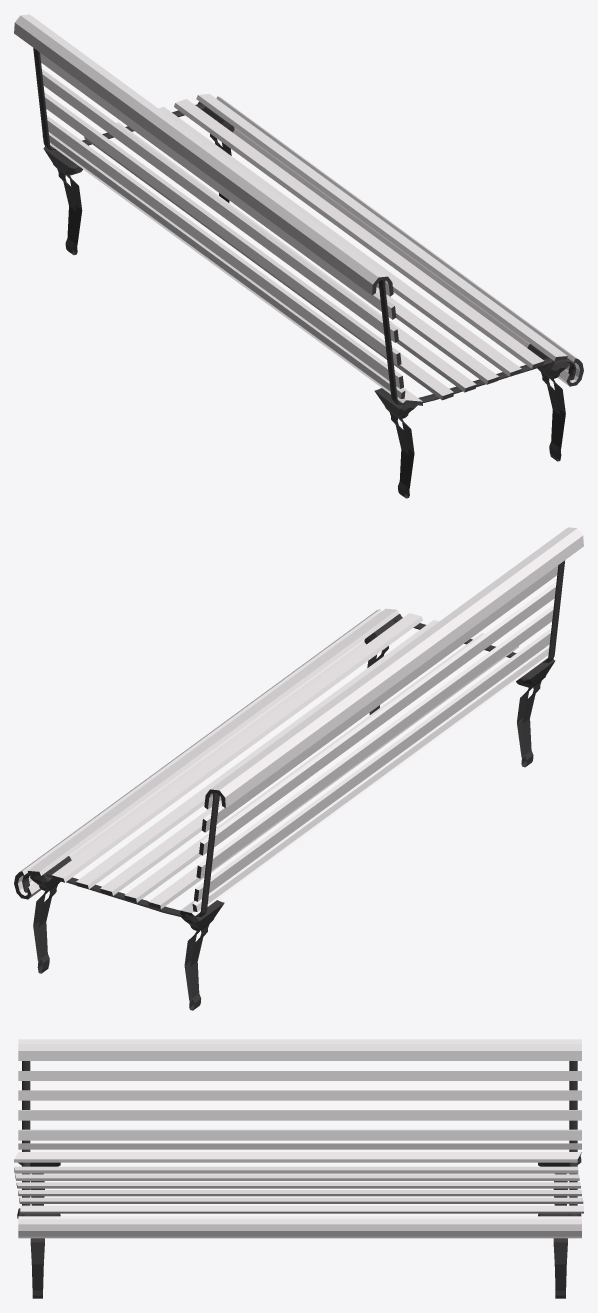
Rendered from BANCO.fbx.
The picture shows the model from 3 angles, top to bottom: view 1: azimuth 30°, elevation 25°; view 2: azimuth 150°, elevation 25°; view 3: azimuth 270°, elevation 25°; orthographic projection. The views are drawn at different scales.
Visible parts, largest first — view 1: Plane; view 2: Plane; view 3: Plane.
Boxes of the visible parts, left/top/right/bottom form: Plane: left=14, top=14, right=583, bottom=498; Plane: left=14, top=527, right=583, bottom=1010; Plane: left=14, top=1039, right=583, bottom=1298.
Size of the model in its own units: 107 by 114 by 317.
